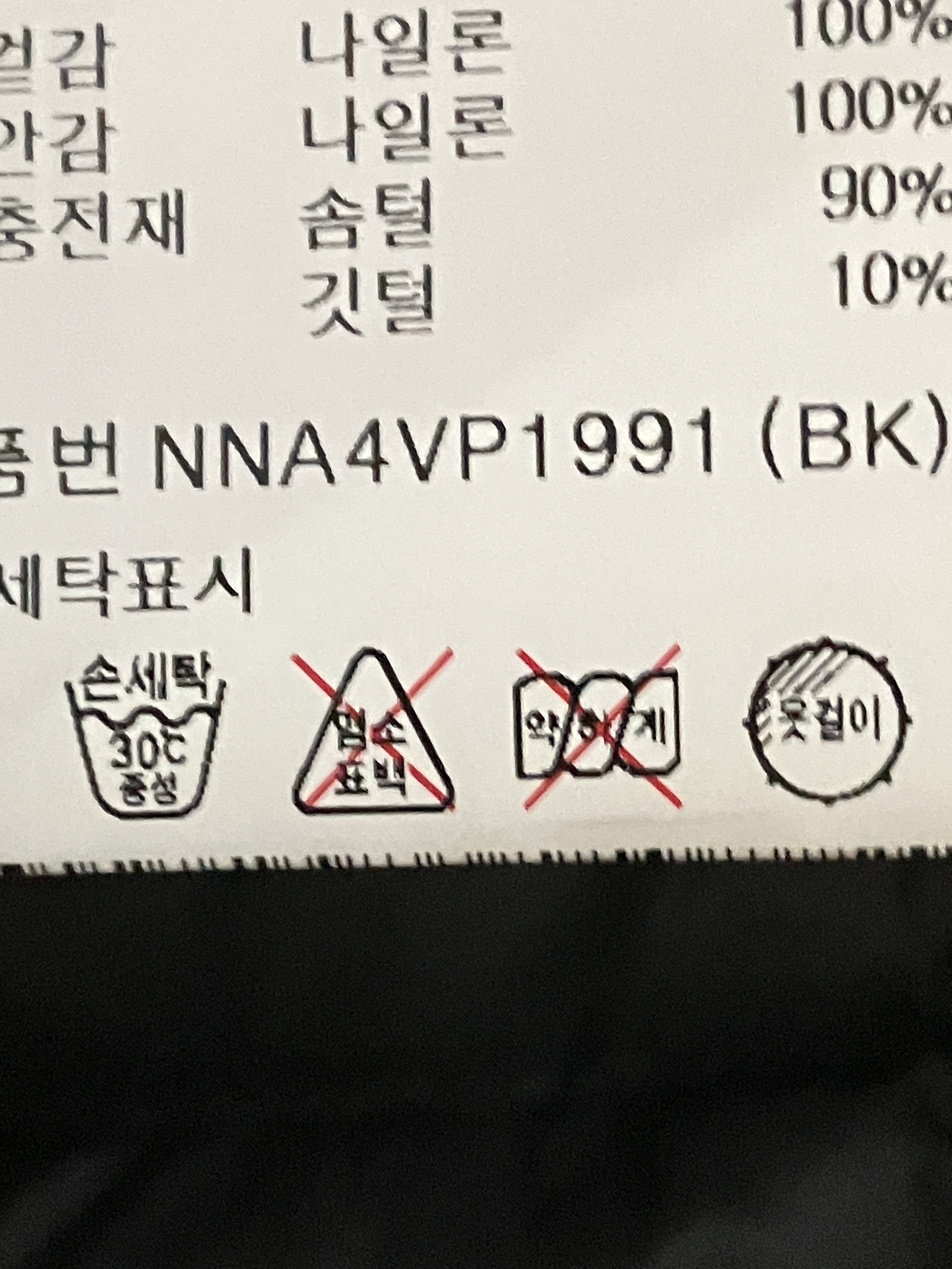KR_hand_wash_30_neutral: (51, 641, 244, 826)
KR_hang_dry_in_shade: (735, 624, 919, 818)
KR_no_chlorine_bleach: (270, 627, 469, 825)
KR_no_wring: (494, 636, 698, 799)
